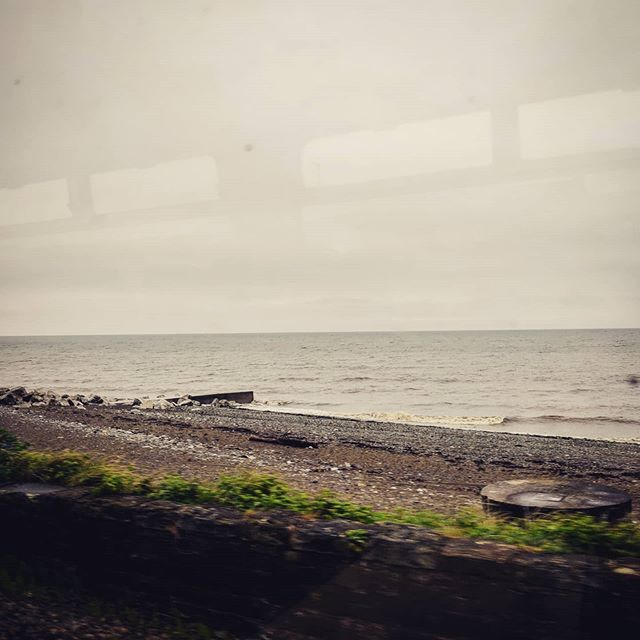sea: (13, 330, 640, 436)
sky: (3, 3, 640, 337)
